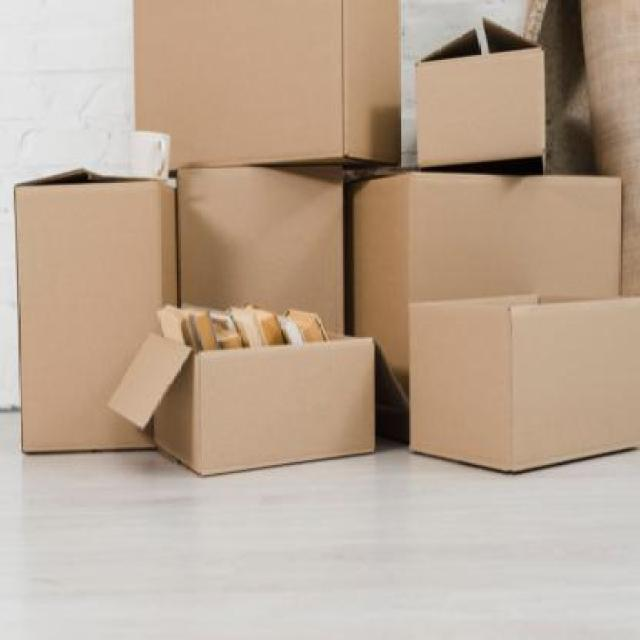box: (360, 175, 638, 384), (132, 0, 401, 181), (14, 168, 174, 456), (141, 299, 384, 485), (412, 297, 638, 482), (176, 165, 356, 352), (412, 16, 565, 172)
